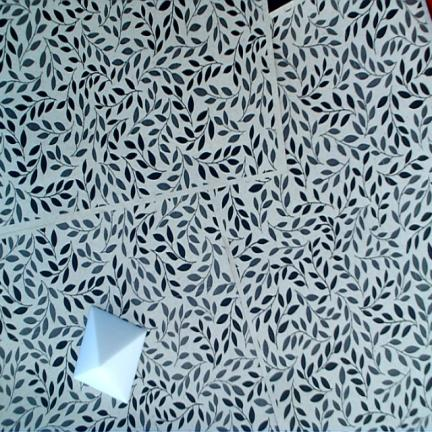Piramide: (74, 306, 147, 404)
